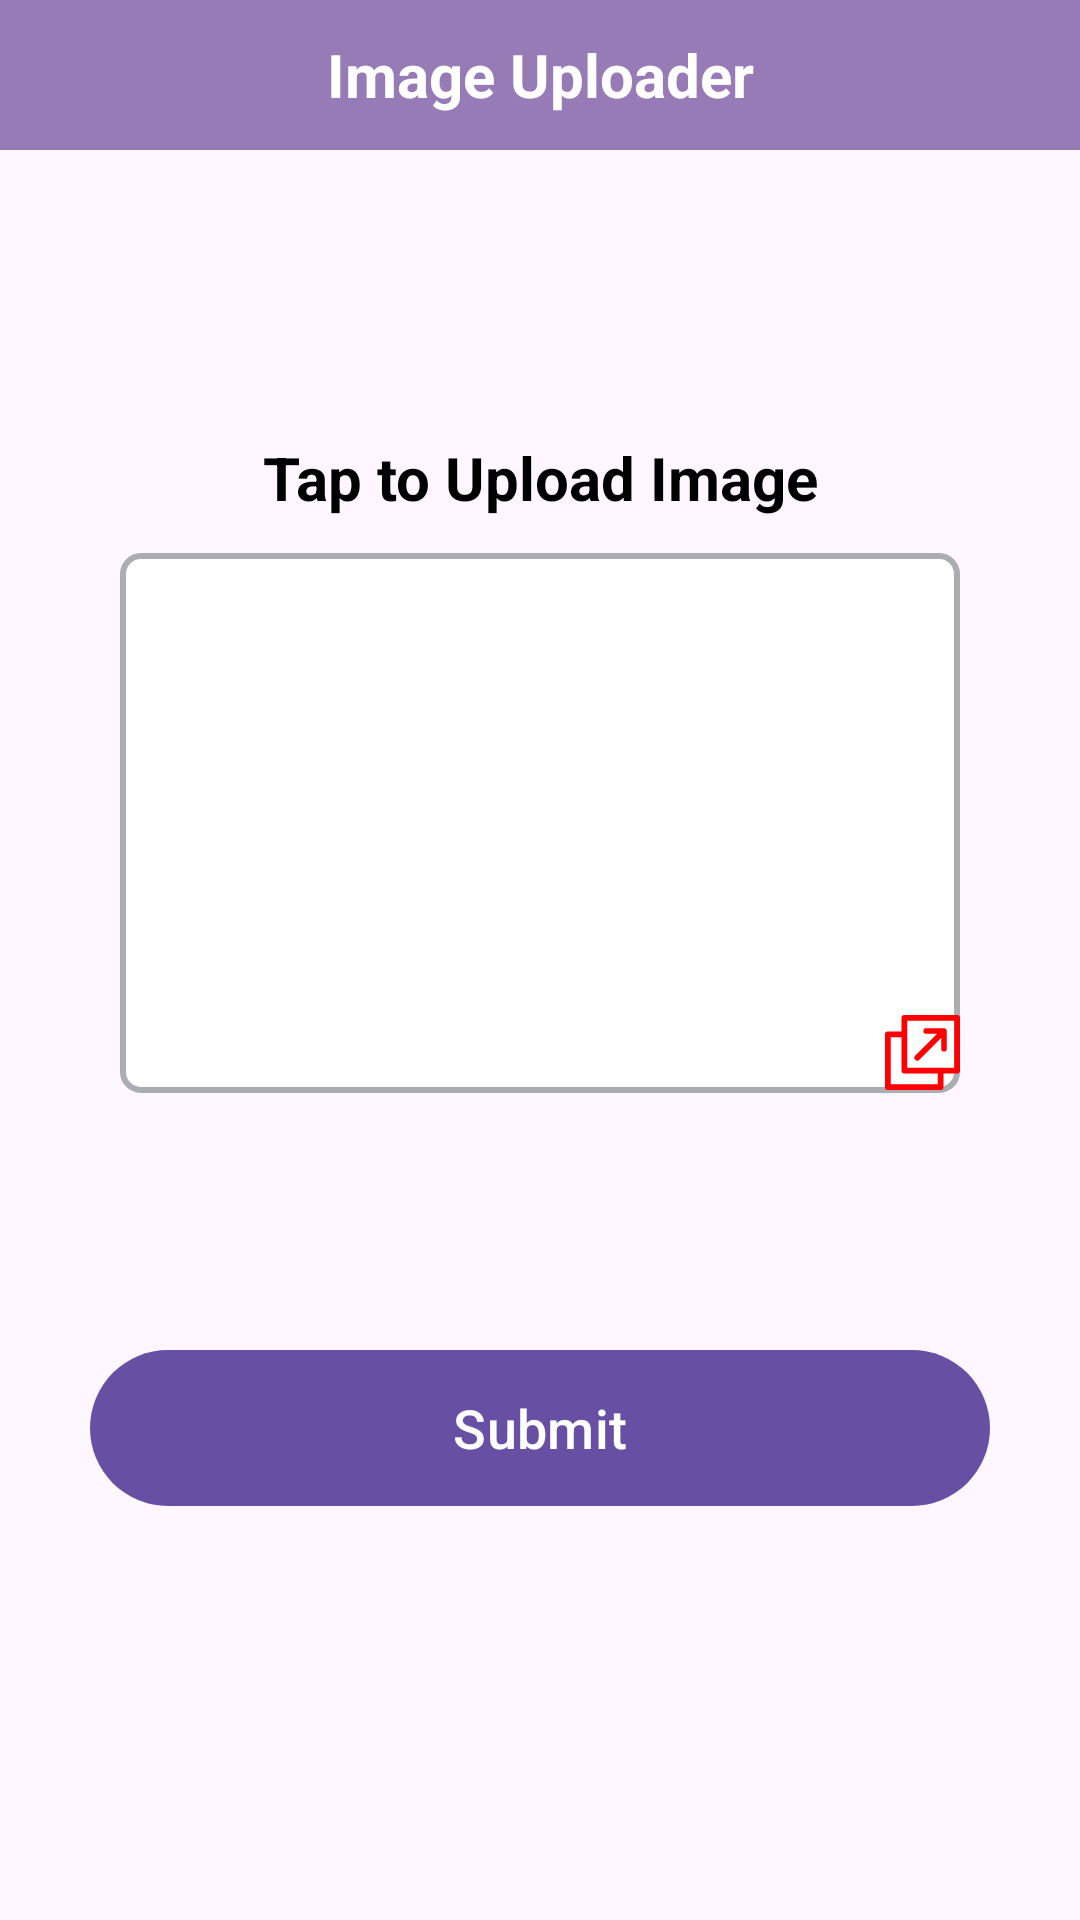

Screen size 1080px x 1920px. Icon name, then its center in pixels as (x=x, y=y):
viewpic: (x=922, y=1052)
